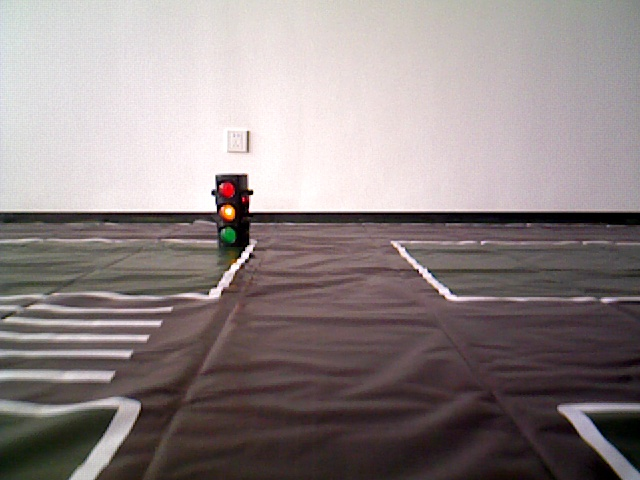yellow: (216, 178, 250, 245)
